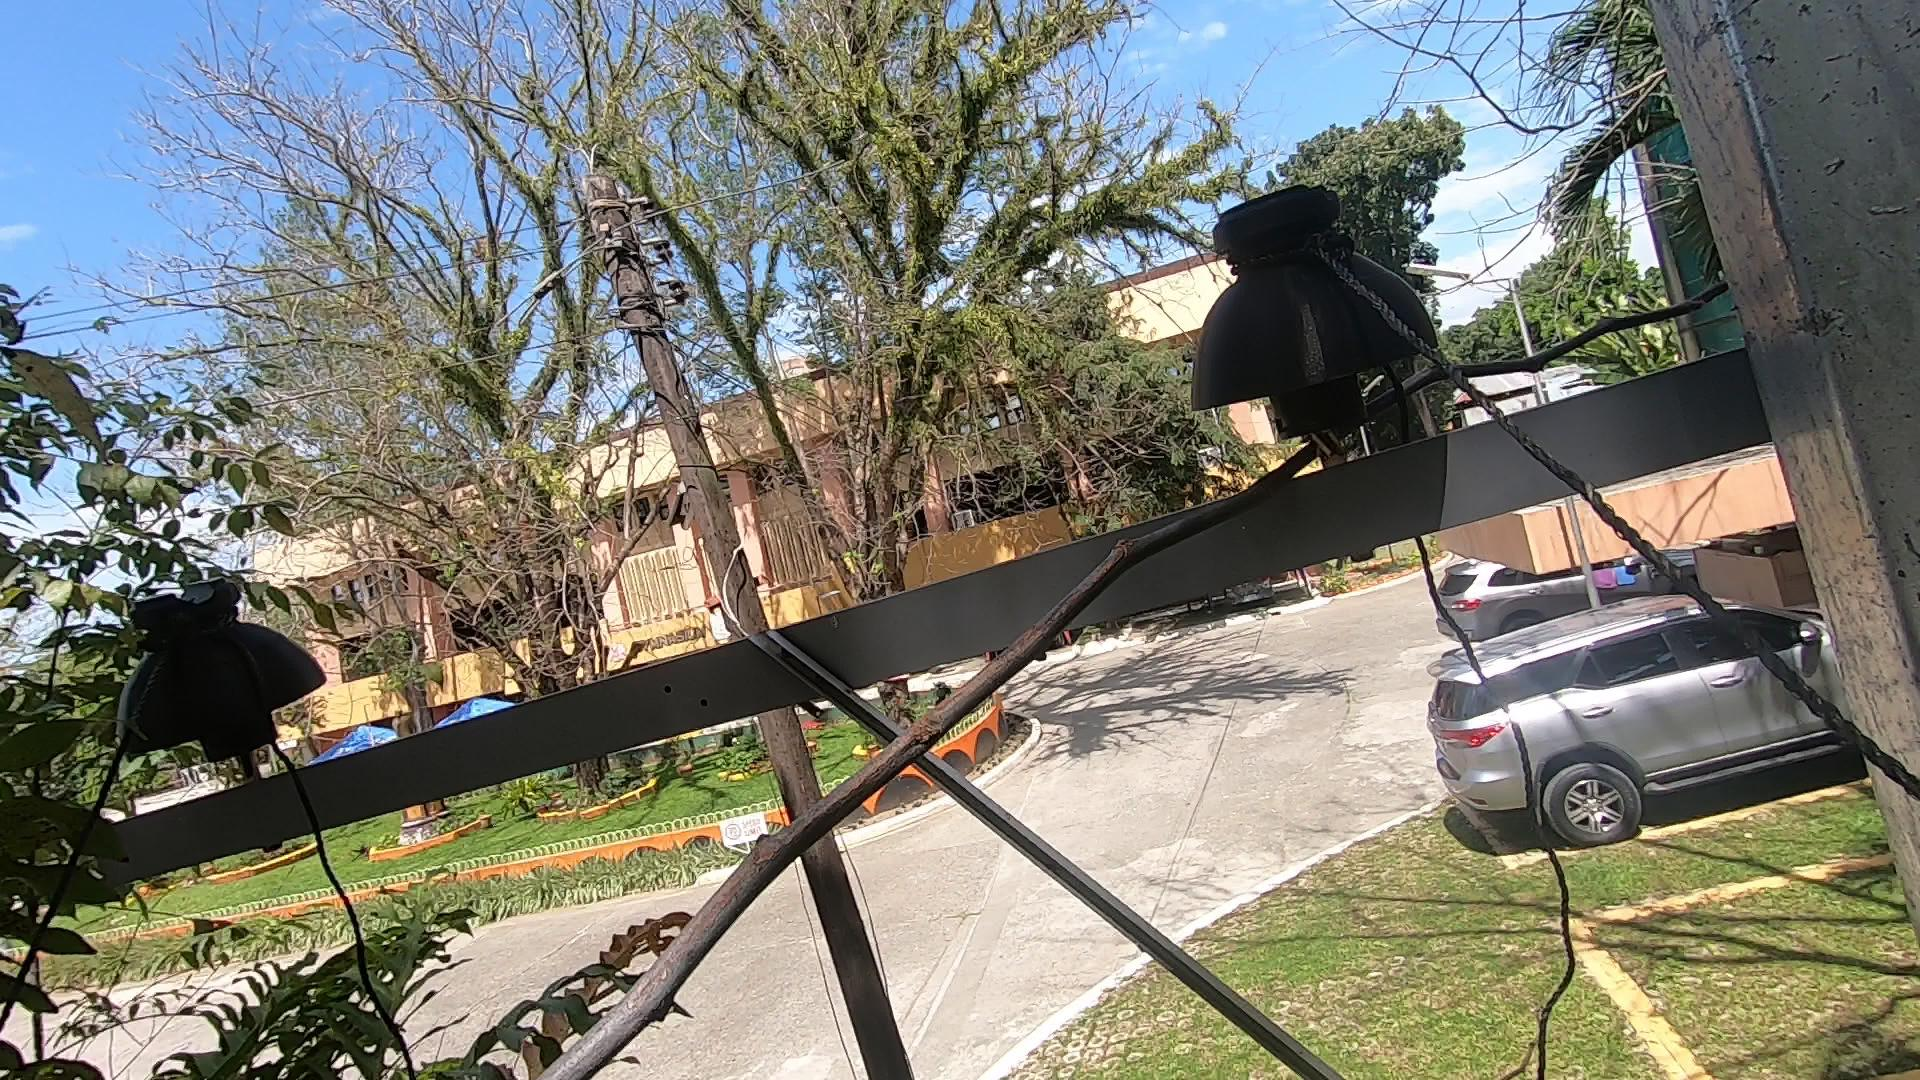tree branch: (497, 212, 1832, 1073)
